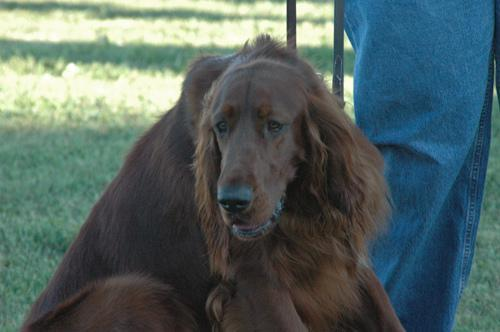Irish_setter: (17, 32, 405, 330)
